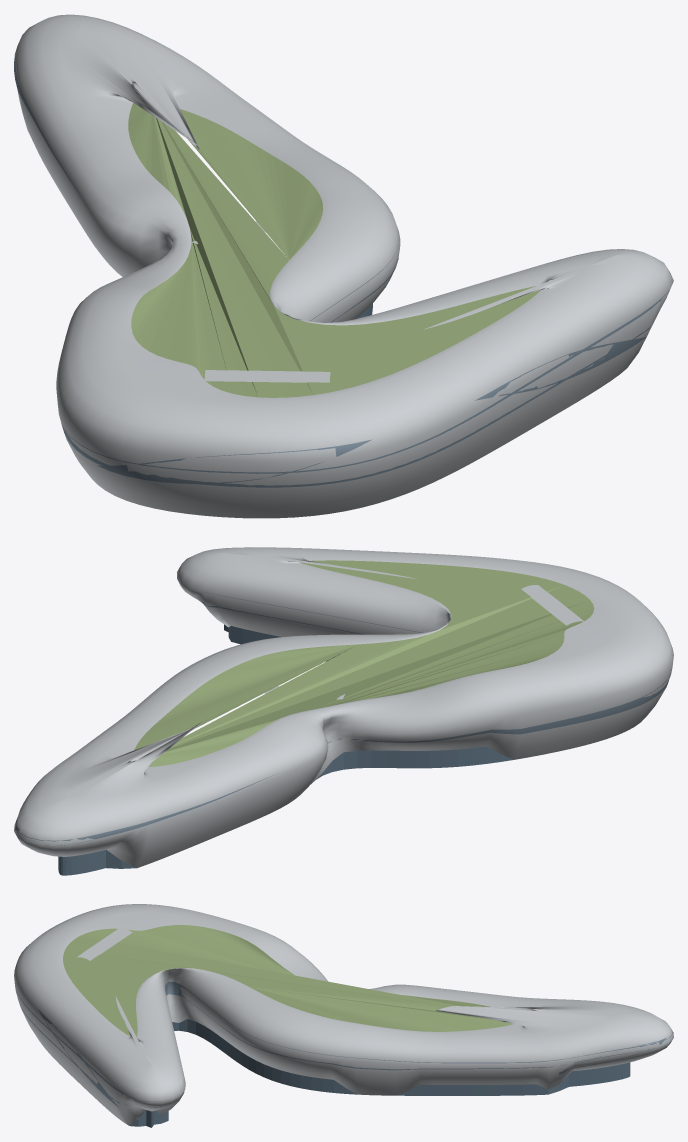
Rendered from seoul-ddp.glb.
3 renders of one model, top to bottom at view 1: azimuth 30°, elevation 25°; view 2: azimuth 150°, elevation 25°; view 3: azimuth 270°, elevation 25°, orthographic. The views are drawn at different scales.
Parts seen in each view (by area): view 1: Dongdaemun Design Plaza; view 2: Dongdaemun Design Plaza; view 3: Dongdaemun Design Plaza.
Part boxes in pixels (box(x1,y1,x2,y2)): Dongdaemun Design Plaza: box(14, 14, 673, 518); Dongdaemun Design Plaza: box(14, 547, 673, 875); Dongdaemun Design Plaza: box(14, 904, 673, 1127).
Size of the model in its own units: 184 by 29.3 by 272.
